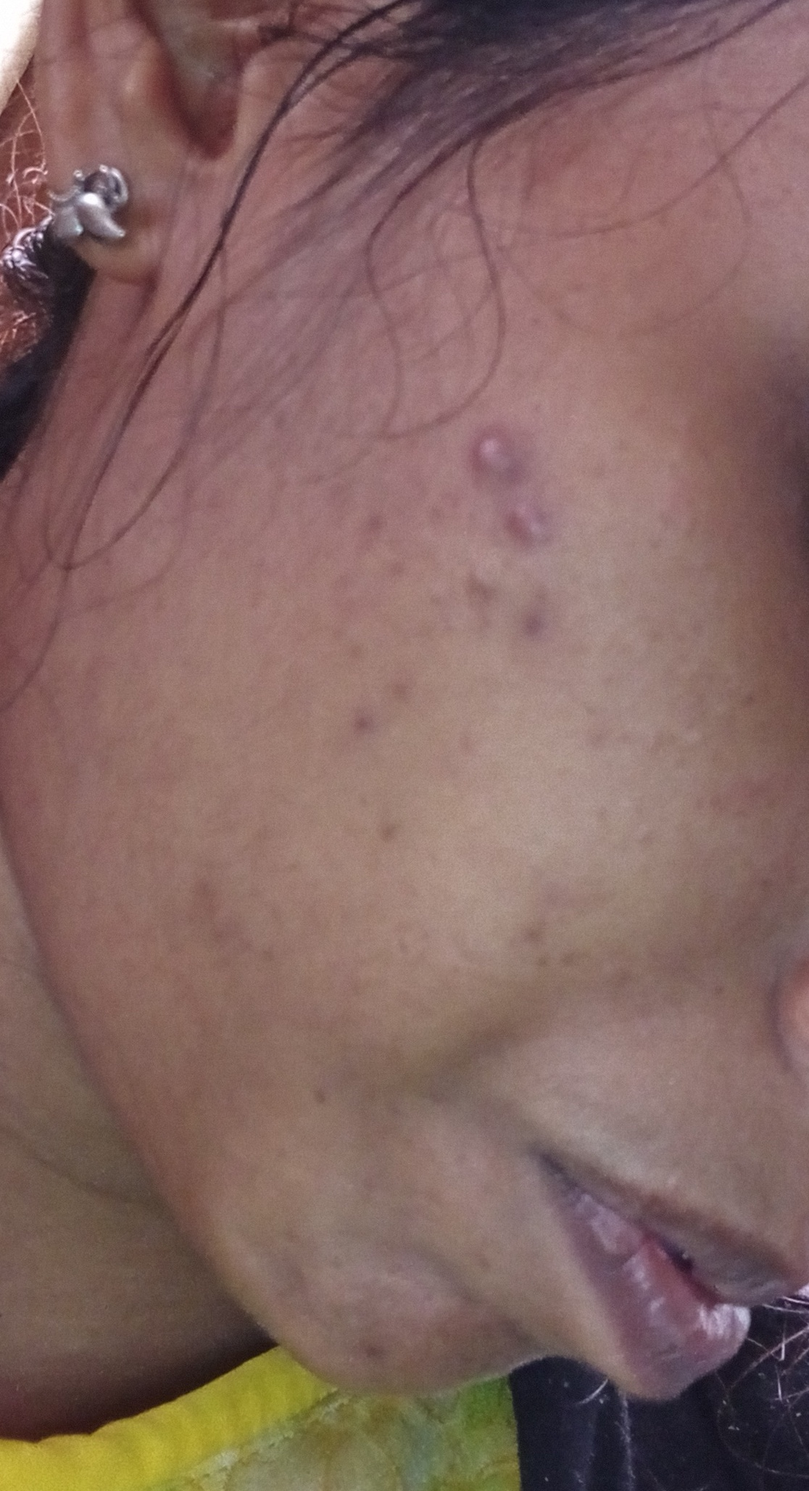papule: (436, 568, 537, 623)
pustule: (476, 502, 577, 568), (459, 428, 537, 502)
